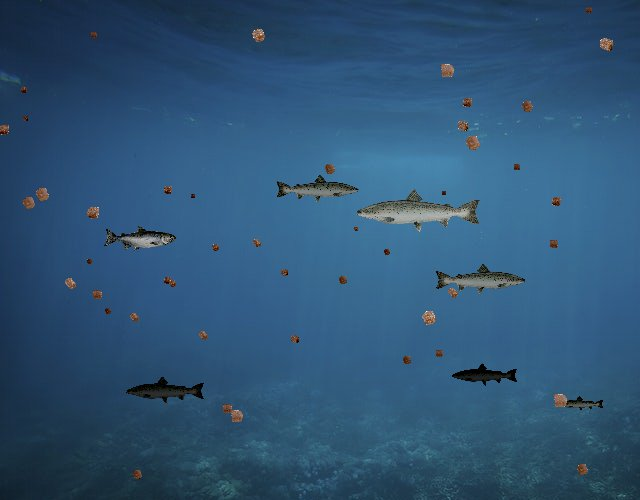Fish: (354, 187, 483, 233), (433, 262, 527, 296), (274, 173, 360, 204), (125, 375, 206, 405), (104, 225, 177, 252), (451, 362, 519, 386), (559, 395, 606, 412)
Pellet: (244, 21, 272, 49), (58, 271, 83, 296), (570, 457, 594, 481), (19, 112, 31, 124)
